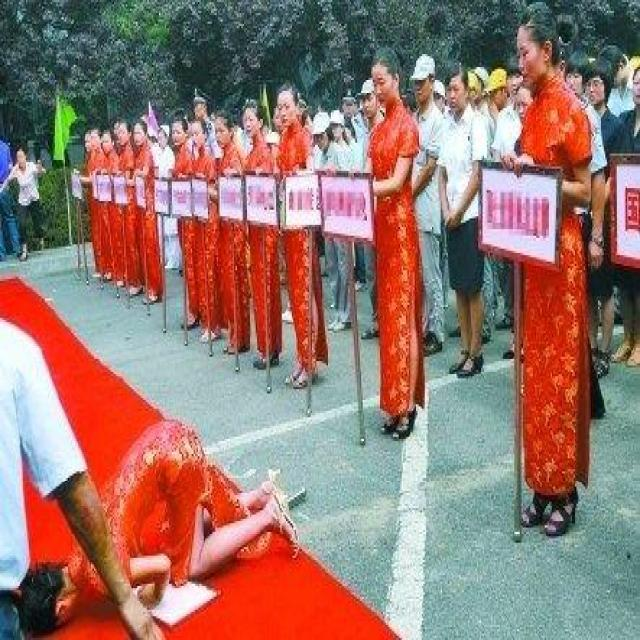10-: (0, 0, 637, 638)
down: (10, 406, 309, 638)
